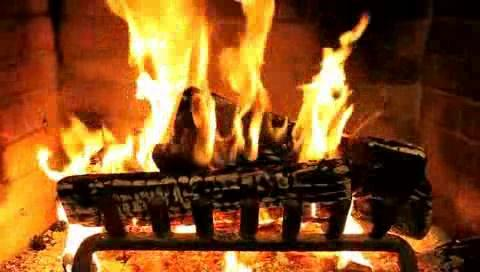fire: (123, 0, 353, 161)
